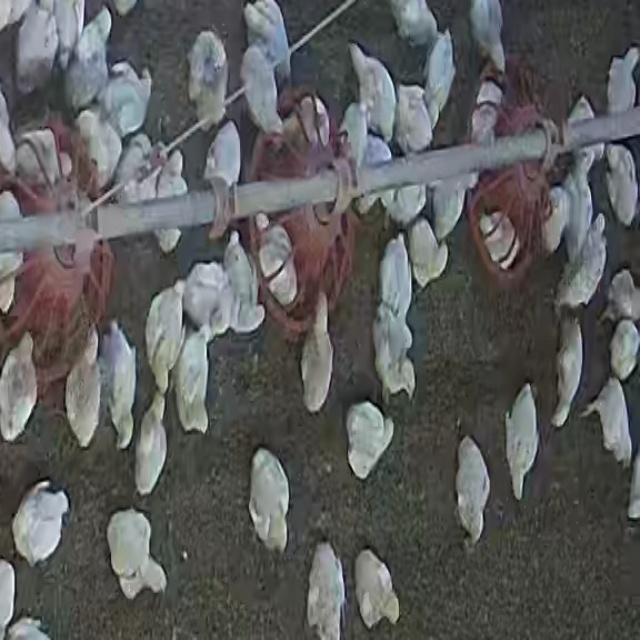chicken: (101, 508, 174, 606), (12, 479, 71, 569), (63, 6, 111, 116), (97, 322, 138, 450), (346, 41, 396, 145), (351, 128, 400, 232), (554, 220, 608, 312), (64, 329, 104, 449), (247, 448, 292, 554), (14, 2, 62, 100), (242, 0, 292, 92), (147, 147, 189, 256), (580, 378, 633, 464), (185, 30, 229, 132), (300, 292, 336, 415), (0, 331, 39, 442), (240, 43, 284, 141), (147, 282, 187, 388), (173, 329, 212, 436), (373, 309, 416, 405), (100, 62, 152, 141), (224, 229, 263, 333), (454, 439, 492, 544), (72, 109, 120, 192), (354, 546, 401, 630), (505, 386, 540, 498), (346, 402, 394, 482), (550, 316, 584, 428), (367, 231, 414, 311), (14, 127, 67, 197), (134, 394, 170, 497), (181, 259, 229, 335), (562, 155, 596, 259), (257, 215, 294, 305), (466, 0, 507, 77), (306, 545, 339, 640), (423, 29, 455, 126), (204, 119, 244, 194), (407, 218, 448, 290), (393, 84, 432, 154), (0, 194, 24, 305), (112, 132, 154, 195), (387, 0, 440, 48), (607, 45, 640, 122), (610, 143, 640, 226), (470, 74, 504, 144), (480, 217, 523, 272), (337, 102, 369, 175), (601, 268, 640, 326), (565, 98, 597, 164), (432, 181, 467, 241), (607, 318, 640, 381), (51, 1, 82, 65), (541, 185, 568, 258), (390, 185, 428, 233)
